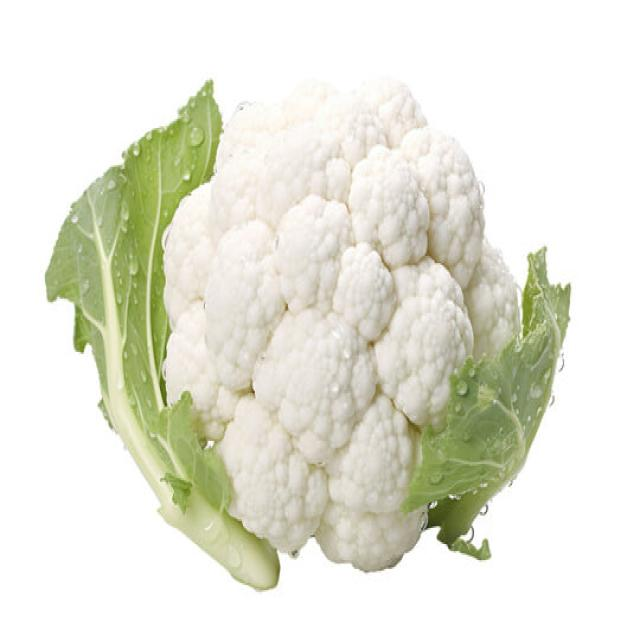Cauliflower: (159, 71, 521, 573)
